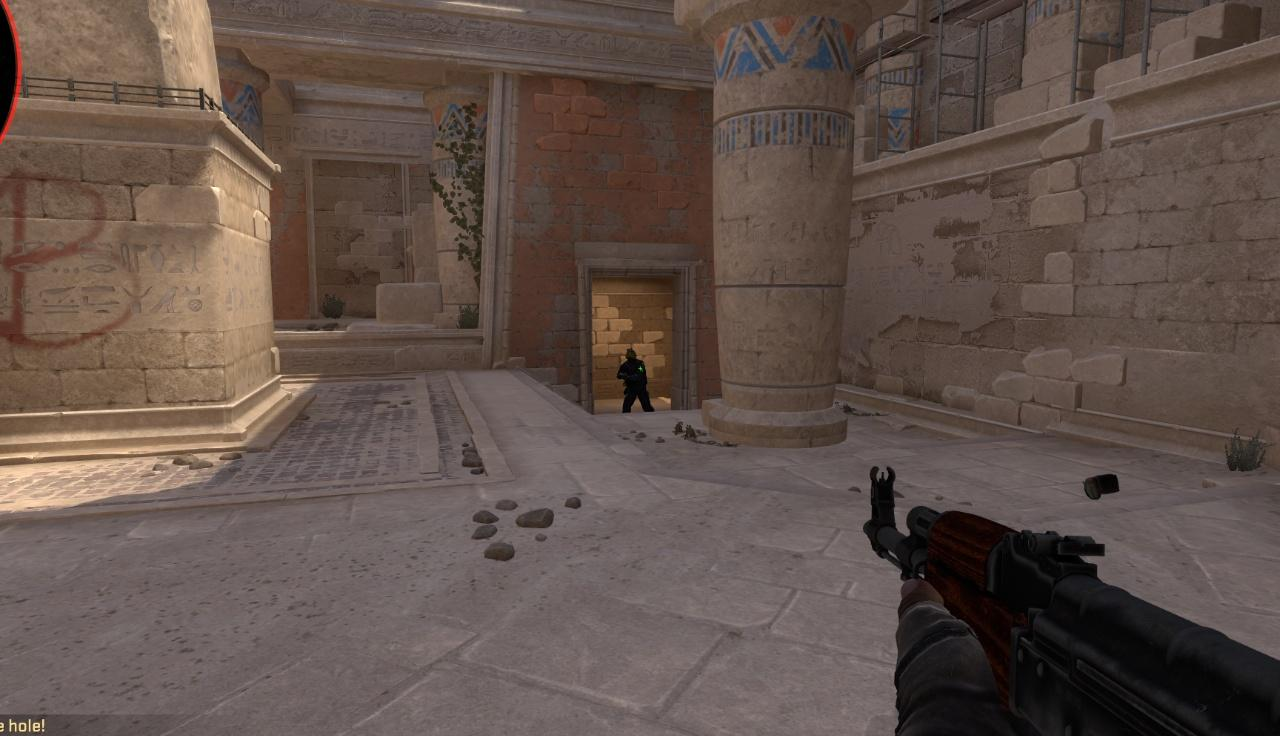ct: (622, 347, 647, 412)
cthead: (627, 349, 638, 363)
rifle: (870, 471, 1280, 736)
